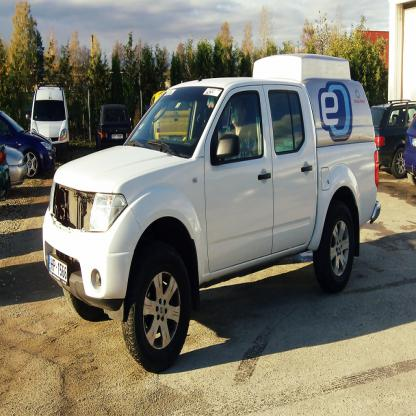Car: (42, 51, 382, 372)
Truck: (42, 53, 381, 374)
